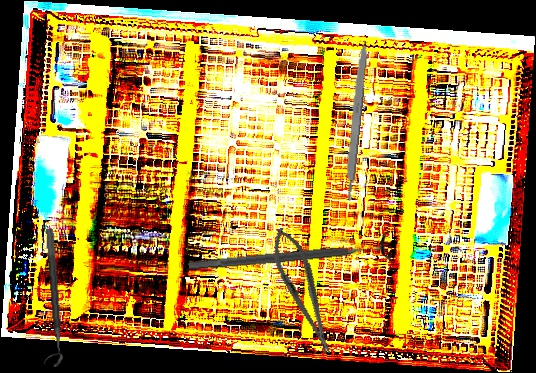Fixation Ring: (186, 228, 392, 282), (34, 228, 64, 368)
Needle Holder: (263, 223, 343, 360)
Scalpel Handle: (341, 38, 370, 203)
